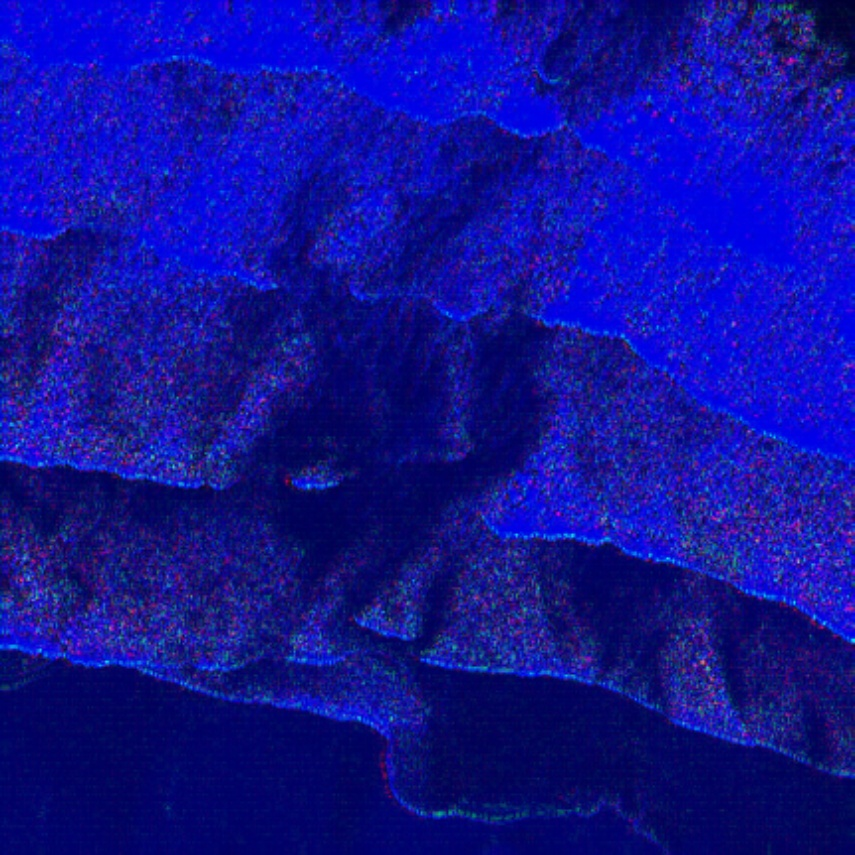rip_current: (227, 101, 585, 668)
